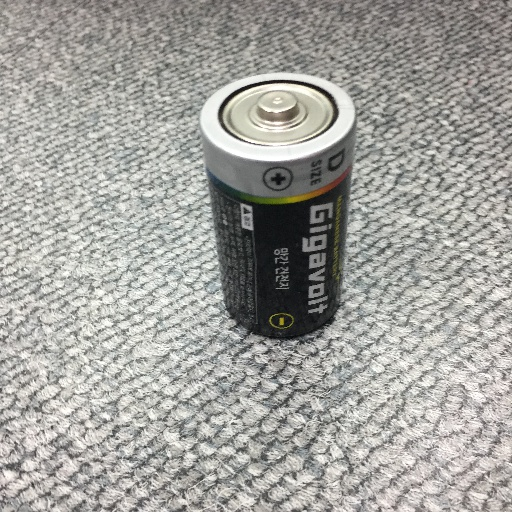Battery_0: (185, 58, 366, 349)
